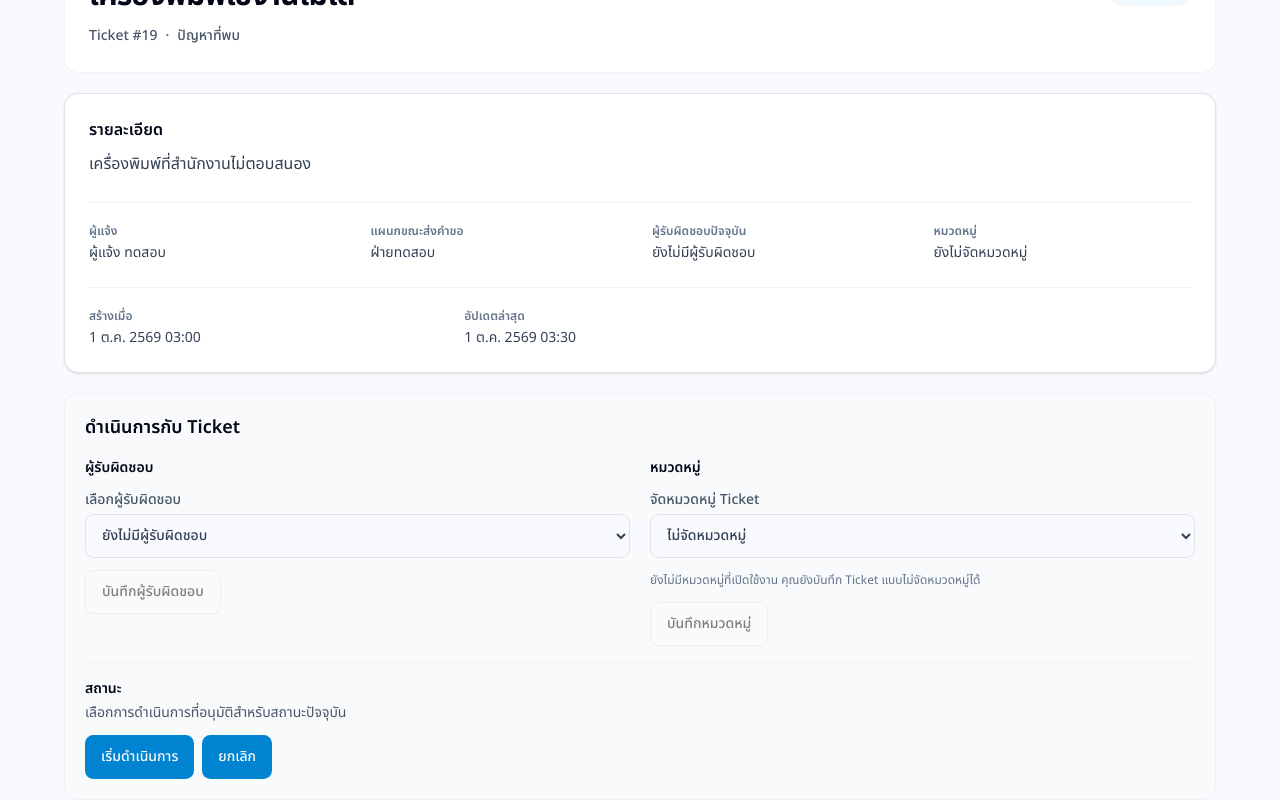
Test case: ITTicketOperatorDetail terminal transition confirmation › requires review of fresh data after a version conflict before another attempt
(page scrolled)
Expected: the text "Ticket #19·ปัญหาที่พบ" is shown, [89,24,240,46]
Click the button "ยกเลิก". click: [237, 756]
box: [202,734,272,778]
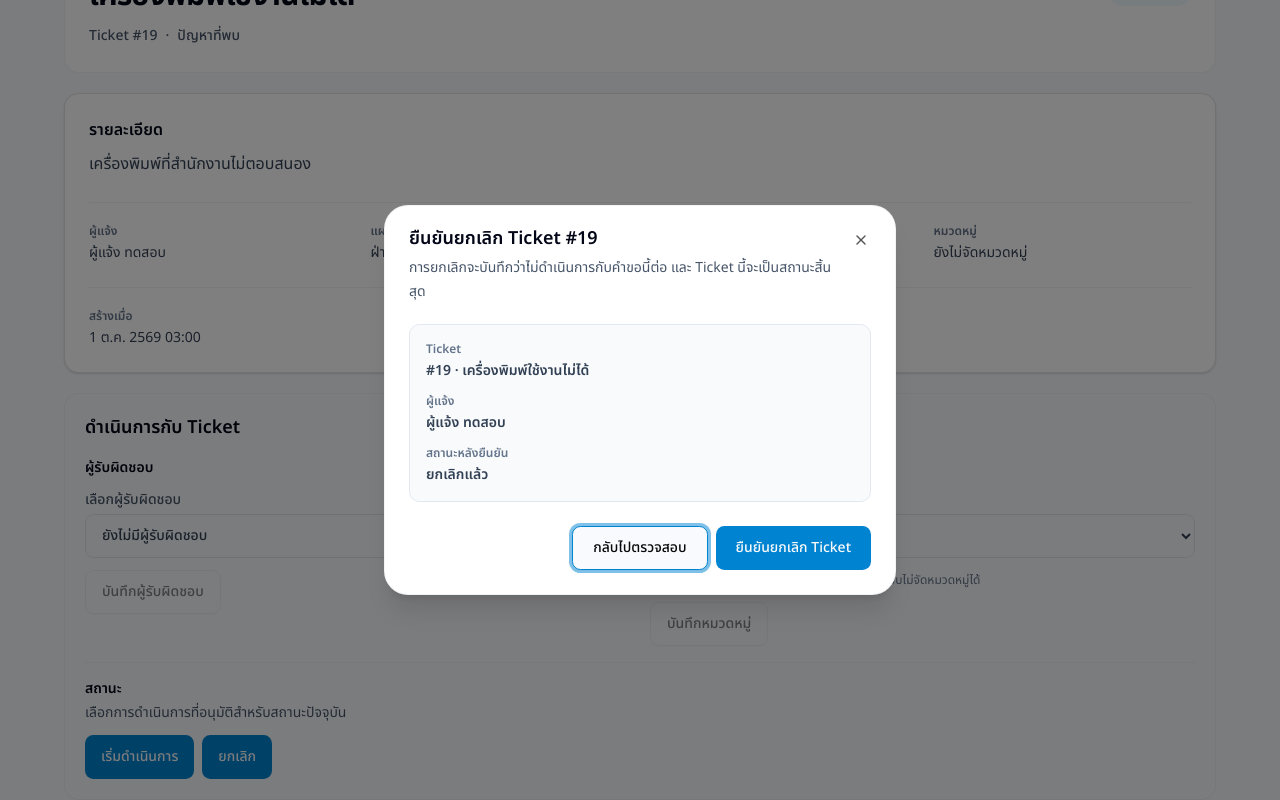
Click the button "ยืนยันยกเลิก Ticket". click: [793, 548]
box: [716,526,871,570]
(page scrolled)
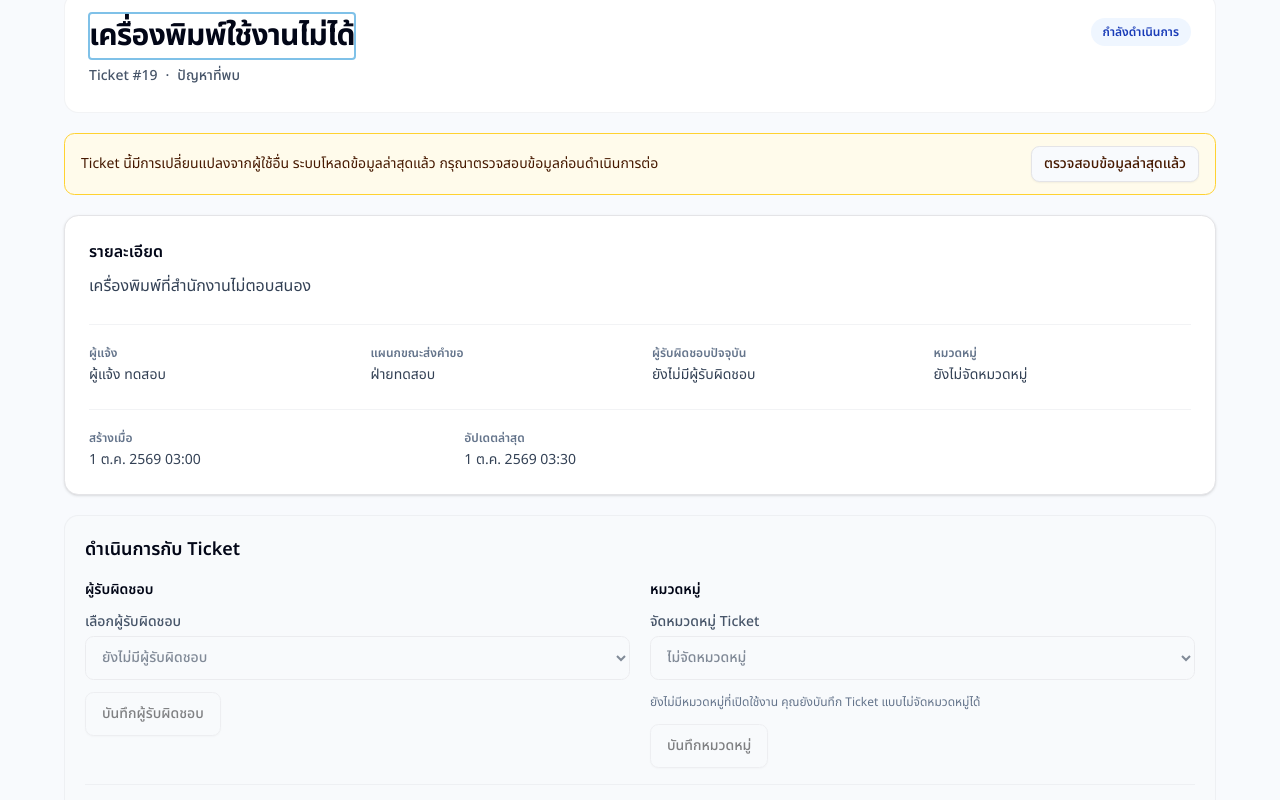
Expected: the message shows "Ticket นี้มีการเปลี่ยนแปลงจากผู้ใช้อื่น", [81,152,658,174]
Expected: the dialog is gone
Expected: the text "กำลังดำเนินการ" is shown, [1091,18,1191,46]
Click the button "ตรวจสอบข้อมูลล่าสุดแล้ว". click: [1115, 164]
box: [1031,146,1199,182]
(page scrolled)
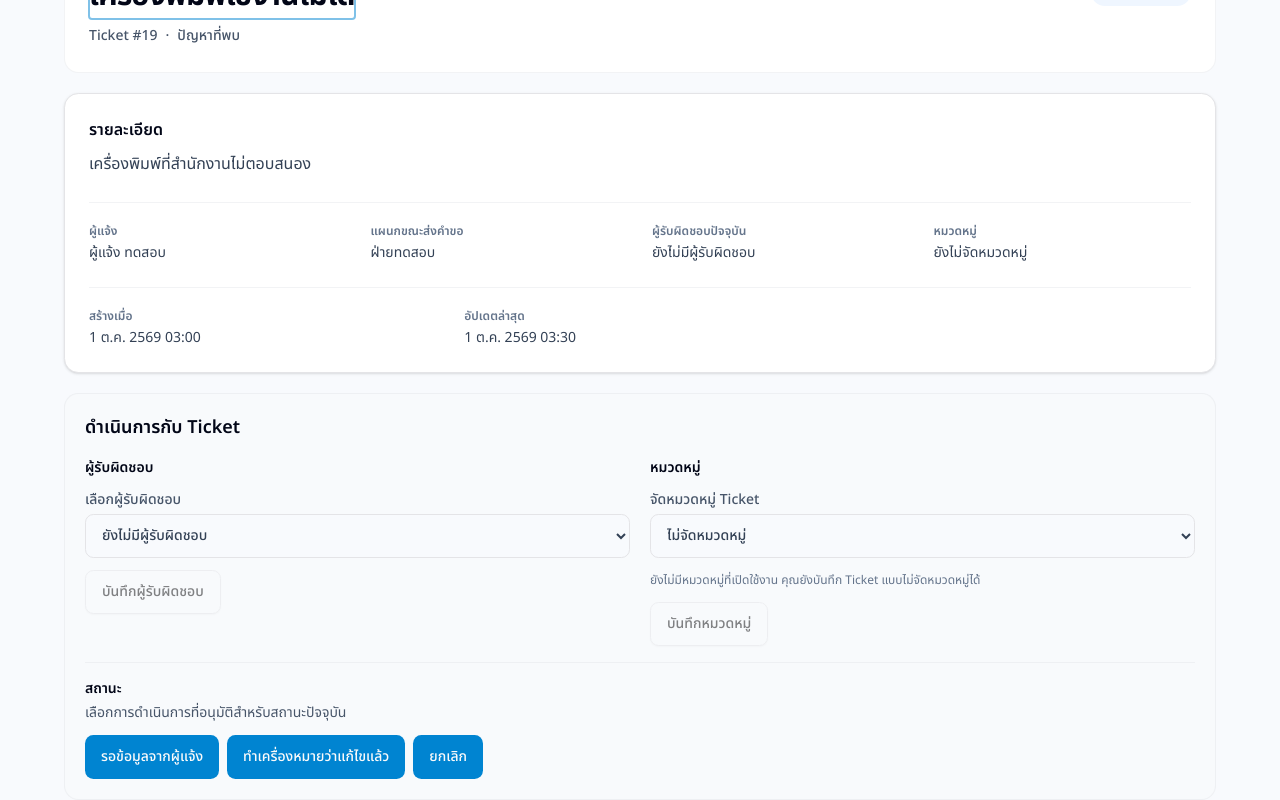
Expected: the button "ยกเลิก" is enabled, [413,734,483,778]
